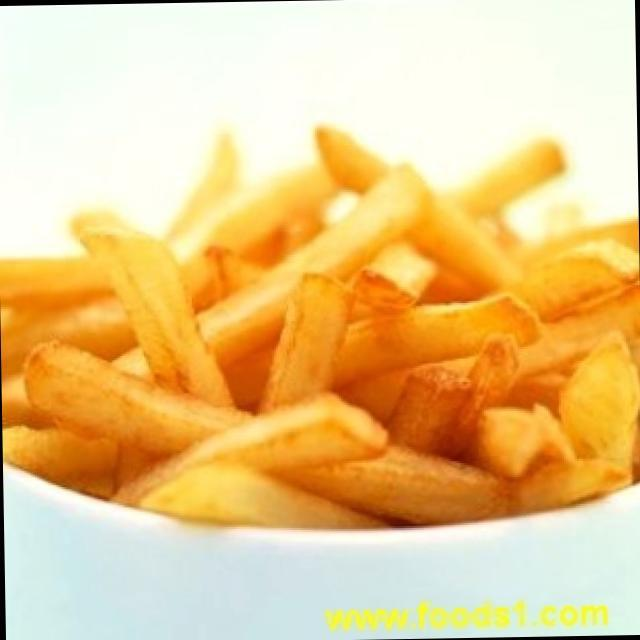French Fries: (18, 109, 640, 514)
